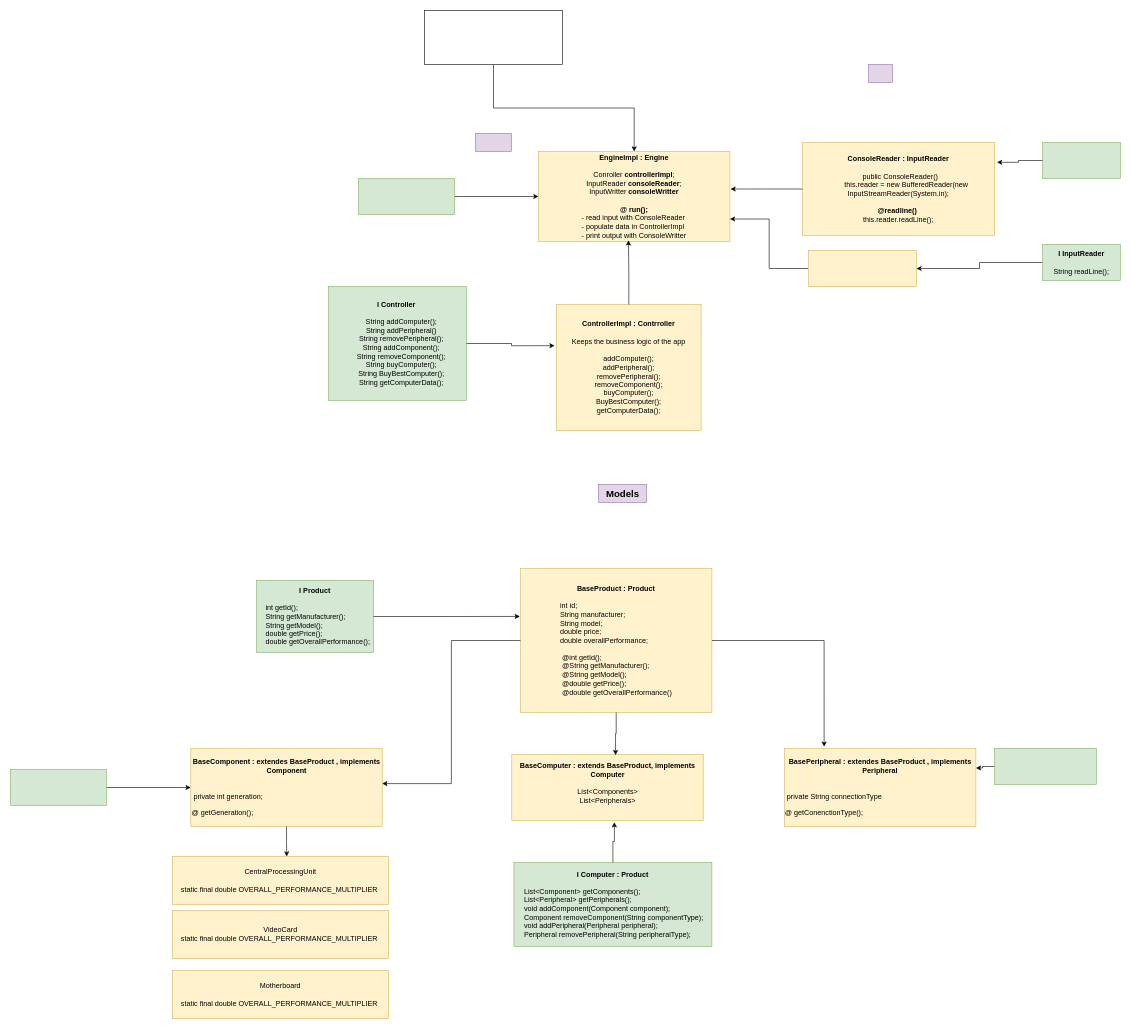
The diagram is 1131 pixels wide and 1029 high, and some of its shapes have lost their labels. Each missing label, with the centre of its shape:
"ConsoleWritter : InputWritter @ writeLine(String) System.out.printLn(String)" belongs at pixel 862 268.
"Core" belongs at pixel 493 142.
"I Component : Product int getGeneration();" belongs at pixel 58 787.
"I Engine extends Runnable void run();" belongs at pixel 406 196.
"I InputWritter void writeLine(String text);" belongs at pixel 1081 160.
"I Peripheral : Product String getConnectionType();" belongs at pixel 1045 766.
"IO" belongs at pixel 880 73.
"Main Egine engine = new EngineImpl(); engine.run();" belongs at pixel 493 37.
